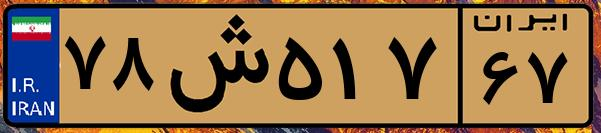1: (330, 28, 385, 110)
5: (270, 28, 330, 110)
6: (475, 38, 525, 113)
7: (385, 28, 445, 110), (57, 26, 110, 100), (525, 38, 570, 115)
8: (110, 28, 158, 98)
ش: (158, 12, 270, 120)
